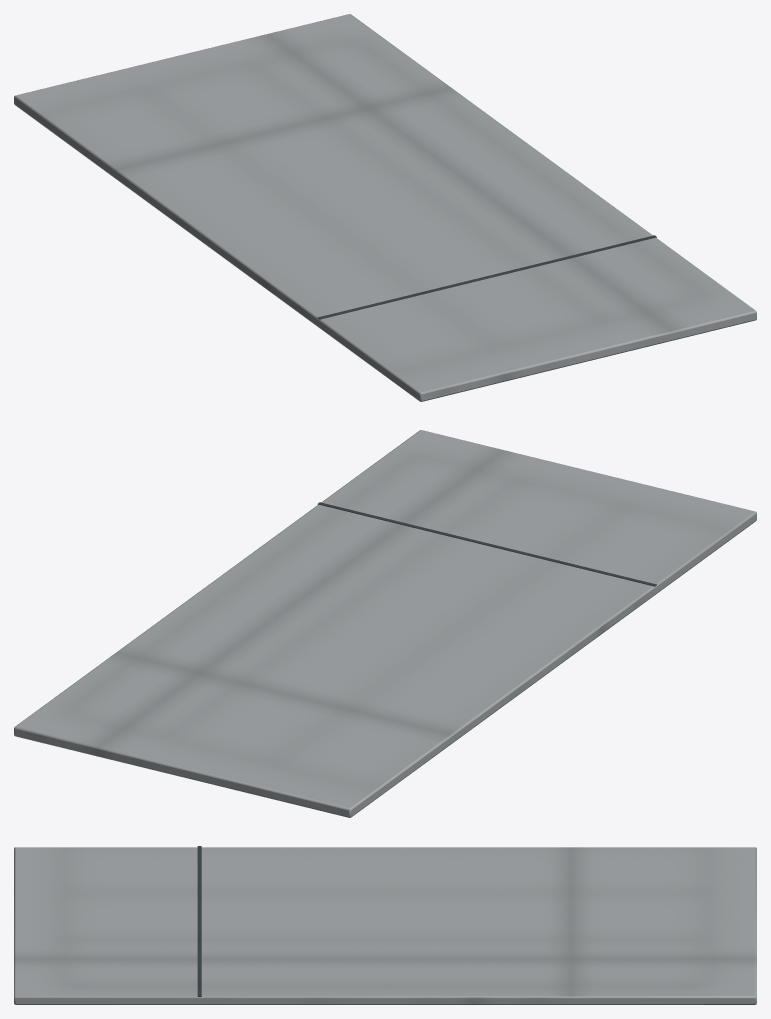
Rendered from 9-right-toy-leg-course-1-2.fbx.
The picture shows the model from 3 angles, top to bottom: view 1: azimuth 30°, elevation 25°; view 2: azimuth 150°, elevation 25°; view 3: azimuth 270°, elevation 25°; orthographic projection. The views are drawn at different scales.
Visible parts, largest first — view 1: right-toy-leg-course-1-2; view 2: right-toy-leg-course-1-2; view 3: right-toy-leg-course-1-2.
Part boxes in pixels (box(x1,y1,x2,y2)): right-toy-leg-course-1-2: box(14, 14, 756, 401); right-toy-leg-course-1-2: box(14, 430, 756, 817); right-toy-leg-course-1-2: box(14, 846, 756, 1004).
Size of the model in its own units: 4400 by 127 by 9200.
1 material, 1 textured.
